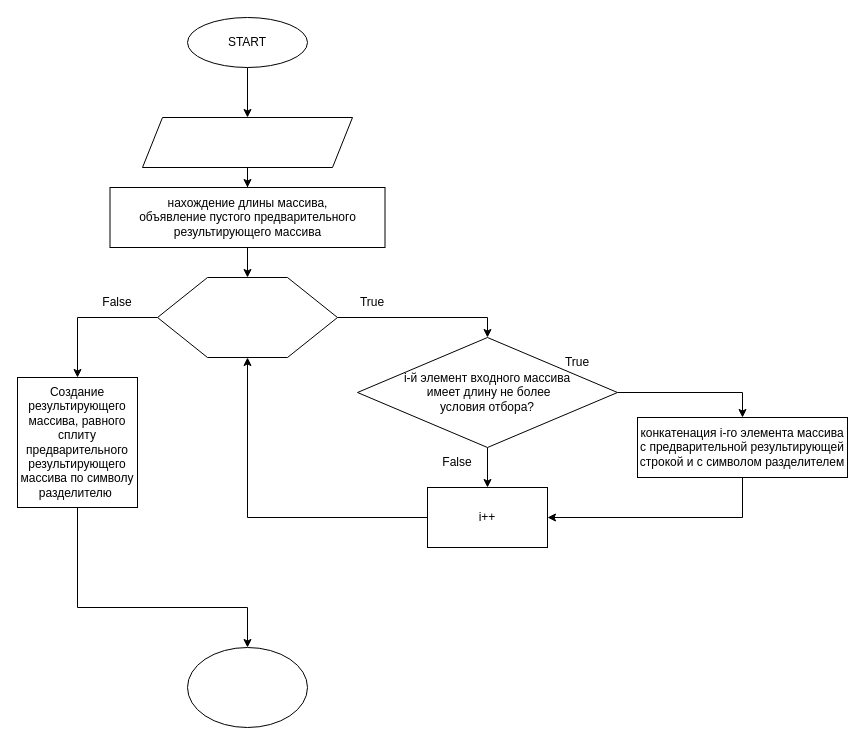
Image size: 865x745. Some labels were removed from this diagram. The shapes that lost their labels are listed below. From the top down, each one's centre as x and y in pixels, then its label:
At point 247,142: "Ввод массива строк и условия отбора".
At point 247,317: "Для всех i<длина входного массива".
At point 247,687: "END".
